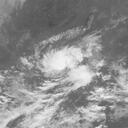cyclone: (37, 40, 92, 88)
